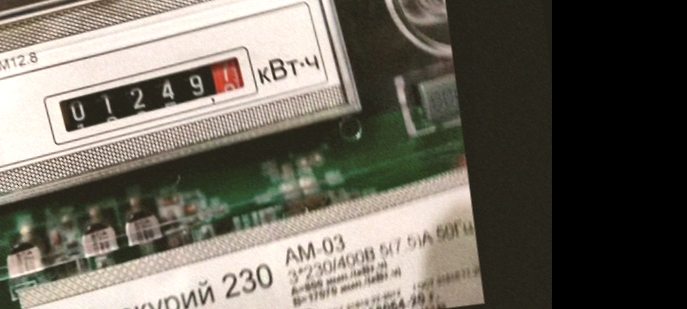0: (64, 94, 86, 123)
1: (96, 90, 114, 117)
2: (125, 83, 148, 112)
4: (156, 74, 177, 103)
7: (215, 58, 232, 84)
9: (185, 70, 206, 97)
screen: (33, 46, 274, 150)
